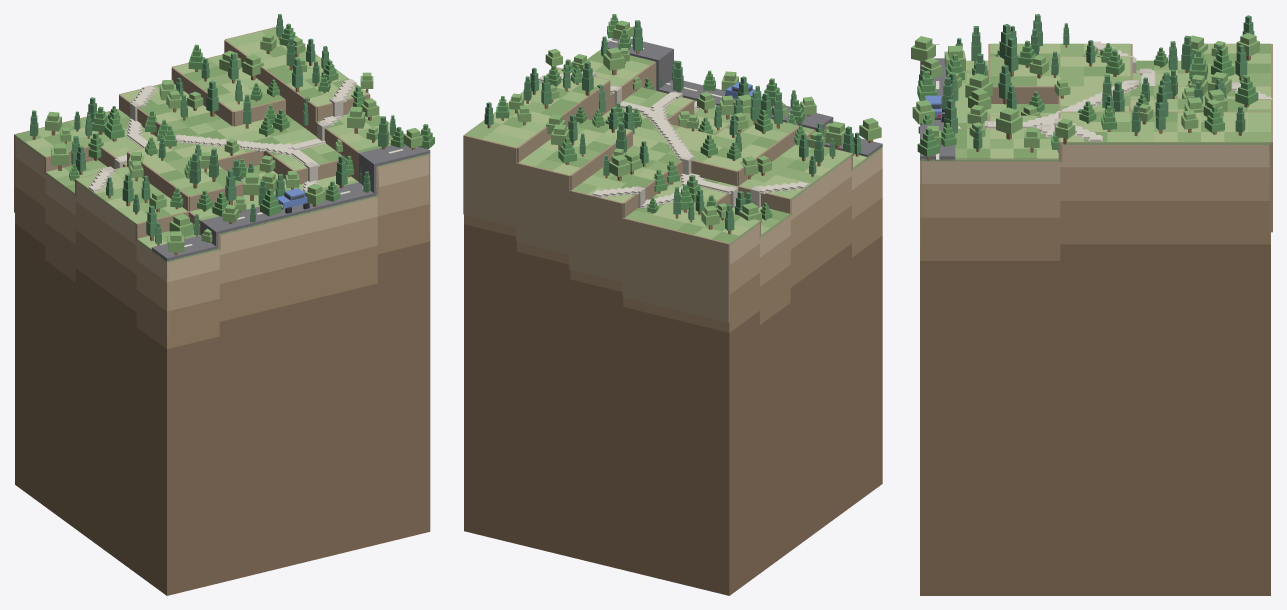
File: block_2_urbanfarm_0.glb
The picture shows the model from 3 angles, left to right: view 1: azimuth 30°, elevation 25°; view 2: azimuth 150°, elevation 25°; view 3: azimuth 270°, elevation 25°; orthographic projection. The views are drawn at different scales.
Visible parts, largest first — view 1: Patch_UpperLeft_b06_UF, Ghats_UpperLeft_b06_UF, Roads_UpperLeft_b06_UF; view 2: Patch_UpperLeft_b06_UF, Ghats_UpperLeft_b06_UF, Roads_UpperLeft_b06_UF; view 3: Patch_UpperLeft_b06_UF, Ghats_UpperLeft_b06_UF, Roads_UpperLeft_b06_UF, ULG_T192_UF, ULG_T108_UF, ULG_T175_UF.
Boxes of the visible parts, left/top/right/bottom form: Patch_UpperLeft_b06_UF: left=15, top=137, right=430, bottom=595; Ghats_UpperLeft_b06_UF: left=14, top=27, right=430, bottom=338; Roads_UpperLeft_b06_UF: left=151, top=145, right=430, bottom=261; Patch_UpperLeft_b06_UF: left=464, top=149, right=882, bottom=595; Ghats_UpperLeft_b06_UF: left=463, top=49, right=882, bottom=322; Roads_UpperLeft_b06_UF: left=607, top=38, right=882, bottom=157; Patch_UpperLeft_b06_UF: left=920, top=144, right=1270, bottom=595; Ghats_UpperLeft_b06_UF: left=920, top=41, right=1272, bottom=248; Roads_UpperLeft_b06_UF: left=920, top=58, right=955, bottom=160; ULG_T192_UF: left=996, top=107, right=1022, bottom=139; ULG_T108_UF: left=911, top=36, right=935, bottom=64; ULG_T175_UF: left=1235, top=75, right=1258, bottom=107.
Size of the model in its own units: 9.77 by 14.67 by 9.79.
